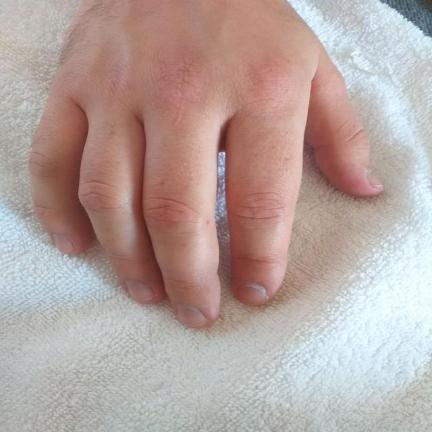Nail: (172, 304, 210, 327), (233, 282, 268, 306), (124, 281, 155, 302), (51, 234, 74, 253), (366, 172, 383, 189)
